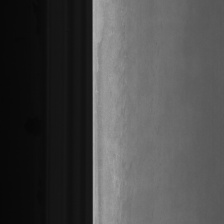silk_spot: (107, 26, 136, 158)
